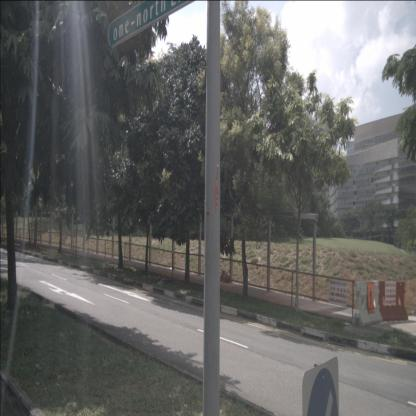barrier: (352, 278, 381, 326), (378, 277, 409, 321)
